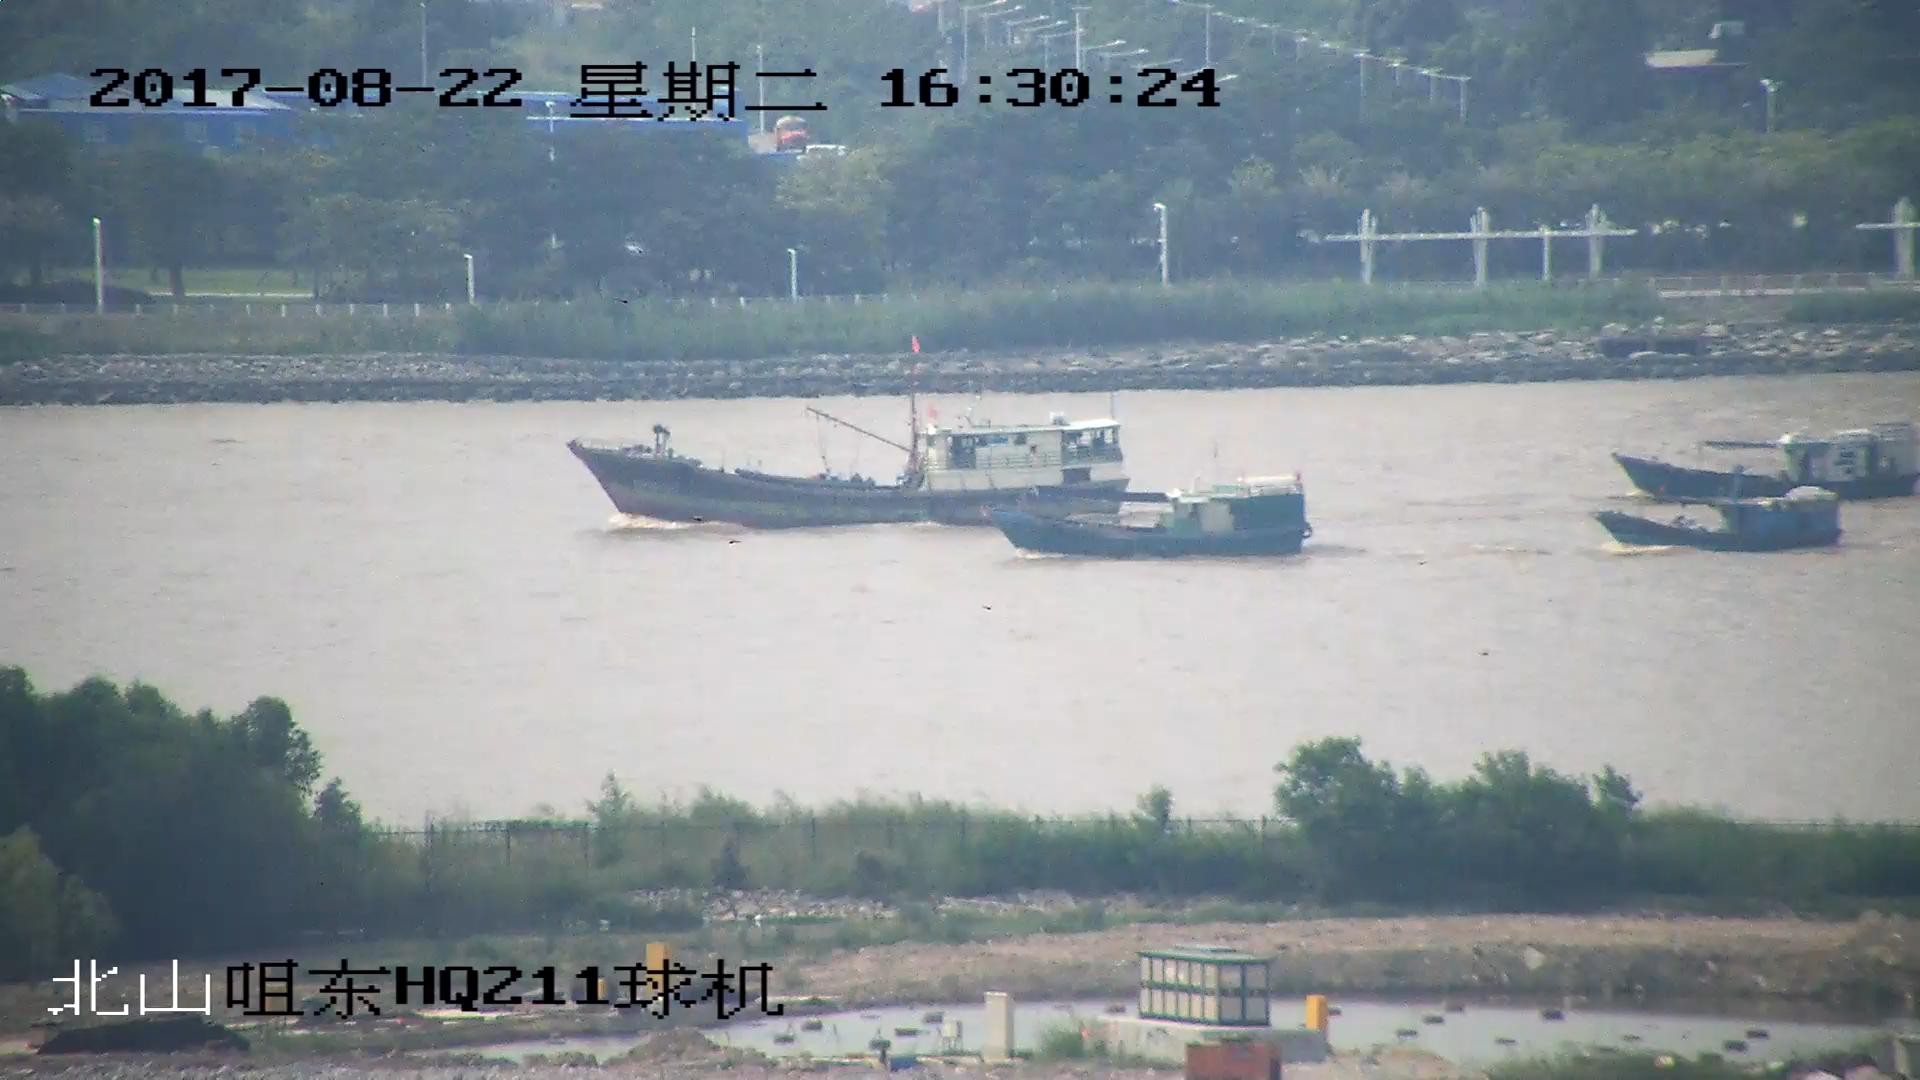fishing boat: (568, 335, 1127, 525), (993, 471, 1301, 559), (1619, 424, 1920, 500), (1599, 488, 1838, 550)
